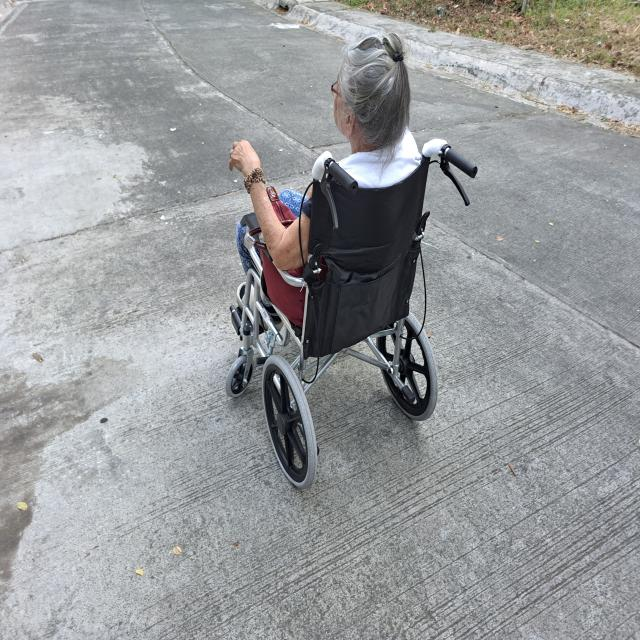wheelchairs: (222, 134, 482, 494)
